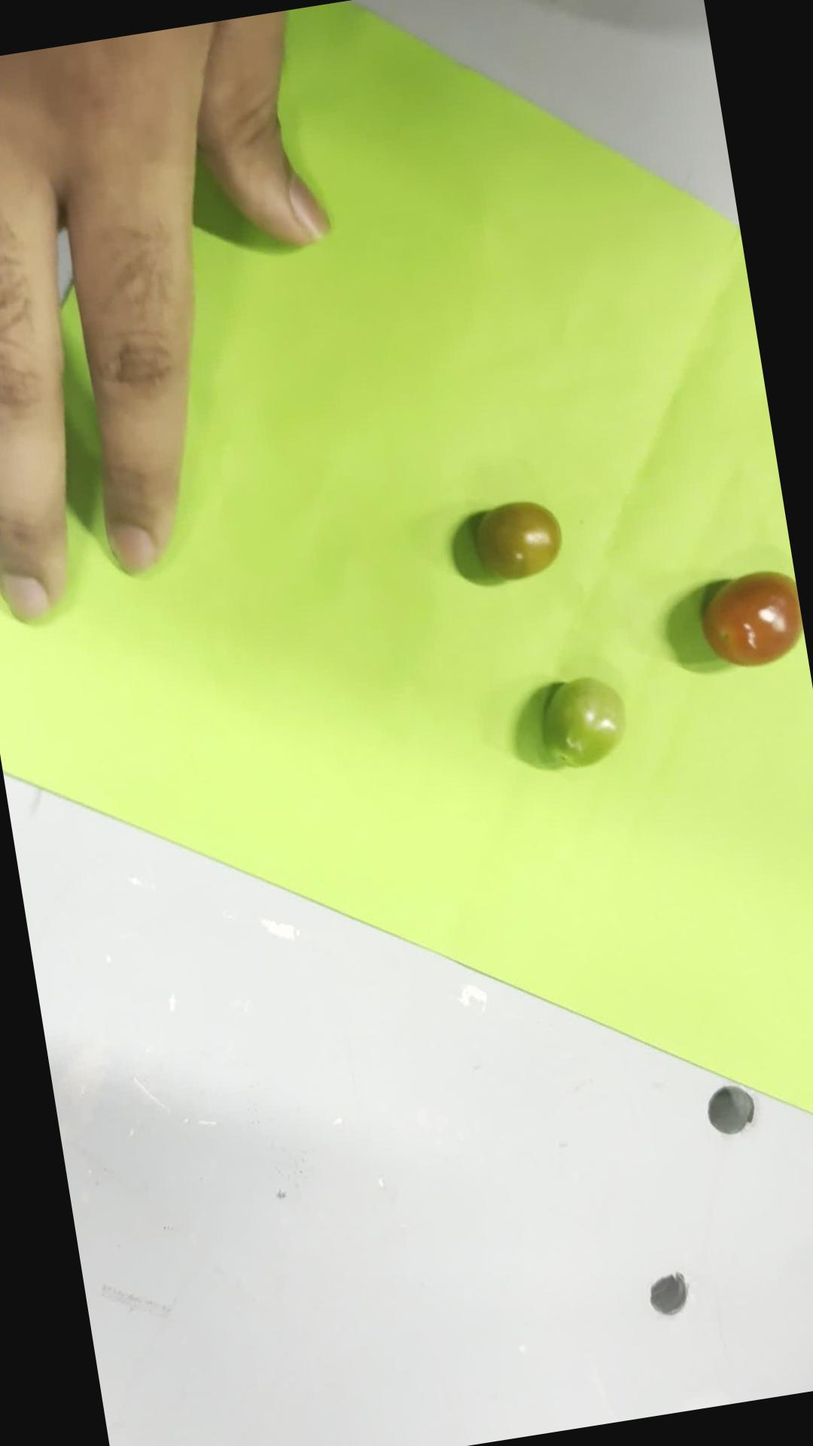green_cherry_tomato: (545, 678, 624, 766)
red_cherry_tomato: (703, 572, 802, 666)
yellow_cherry_tomato: (475, 502, 560, 579)
